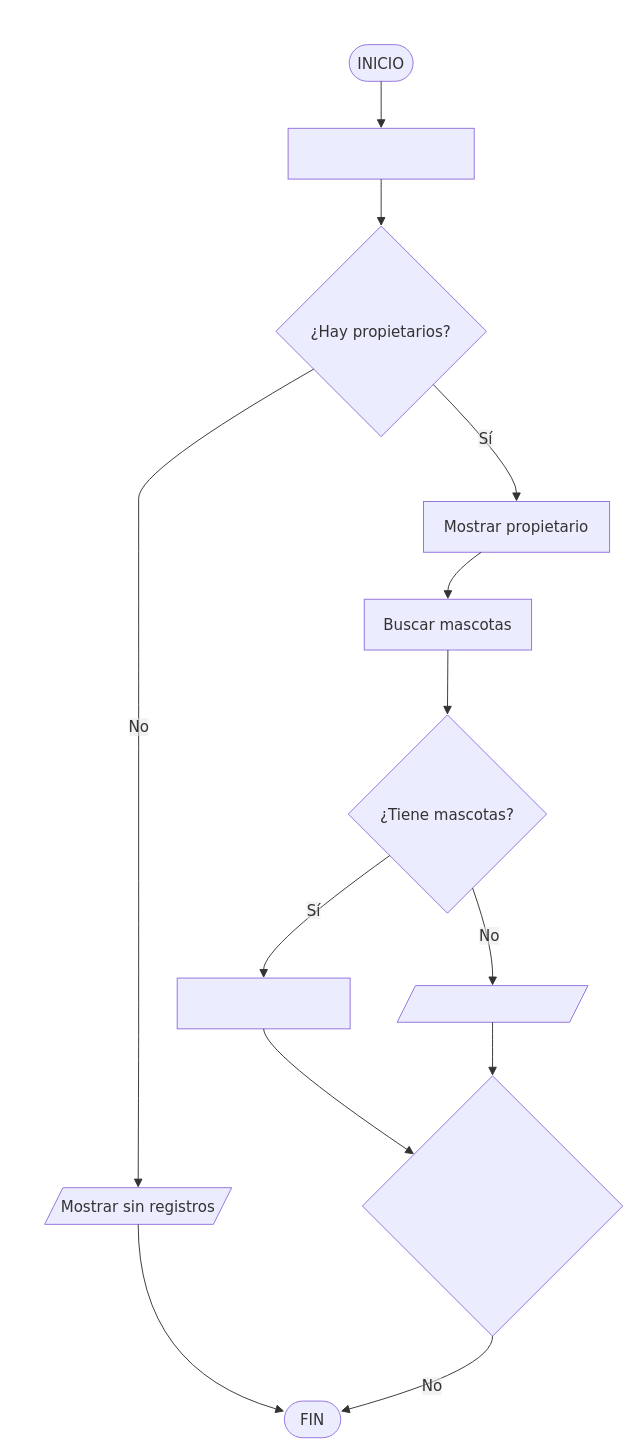
The diagram is 639 pixels wide and 1454 high, and some of its shapes have lost their labels. The centre of each missing label's shape, as x and y in pixels:
Buscar propietarios: (x=380, y=153)
Mostrar mascotas: (x=263, y=1003)
Mostrar sin mascotas: (x=492, y=1003)
¿Hay más propietarios?: (x=492, y=1205)
